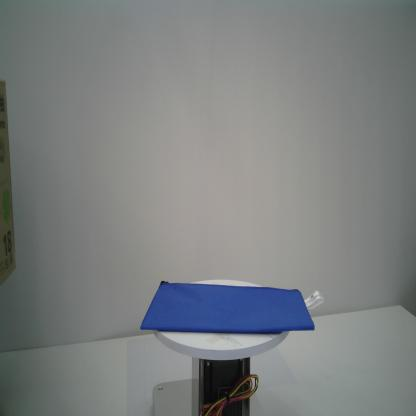Stationery: (138, 278, 326, 335)
